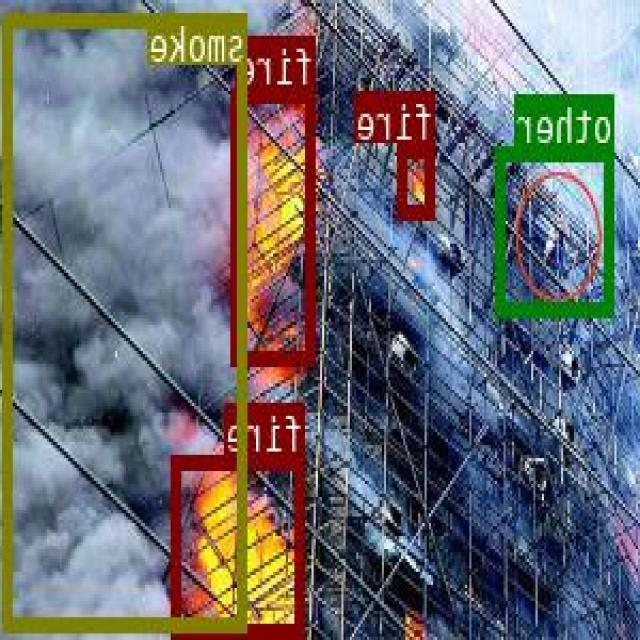fire: (175, 453, 306, 634), (234, 86, 318, 361), (399, 142, 436, 216)
other: (498, 143, 616, 314)
smoke: (6, 11, 248, 629)
